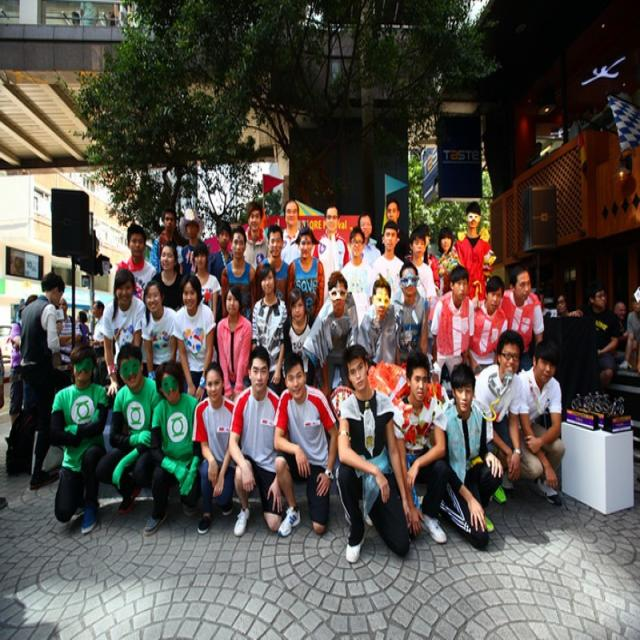body: (334, 341, 413, 567), (270, 350, 340, 540), (46, 339, 112, 538), (437, 360, 505, 551), (227, 342, 290, 539), (10, 270, 66, 489), (391, 348, 449, 546), (140, 360, 202, 539), (107, 341, 164, 515), (189, 359, 243, 537), (474, 329, 524, 507), (518, 339, 567, 508), (471, 264, 544, 372), (302, 269, 360, 397), (98, 266, 148, 400), (173, 275, 217, 402), (250, 262, 290, 400), (430, 266, 475, 384), (452, 199, 496, 310), (310, 199, 354, 309), (406, 222, 440, 362), (216, 283, 254, 406), (579, 281, 621, 391), (392, 224, 438, 320), (466, 272, 509, 374), (139, 277, 179, 382), (207, 218, 234, 368), (284, 224, 326, 320), (393, 260, 430, 368), (112, 220, 158, 304), (340, 225, 376, 332), (220, 223, 258, 324), (356, 272, 397, 364), (282, 284, 318, 386), (368, 218, 405, 306), (254, 222, 292, 302), (150, 240, 185, 314), (7, 302, 27, 428), (193, 240, 222, 322), (374, 197, 411, 259), (149, 207, 180, 276), (85, 300, 109, 389), (242, 199, 270, 274), (55, 296, 77, 390), (178, 205, 205, 278), (617, 288, 640, 372), (280, 198, 302, 268), (434, 224, 462, 278), (356, 211, 382, 268), (555, 291, 584, 318), (533, 288, 559, 318), (75, 310, 92, 343), (613, 300, 627, 333), (534, 137, 548, 162)
